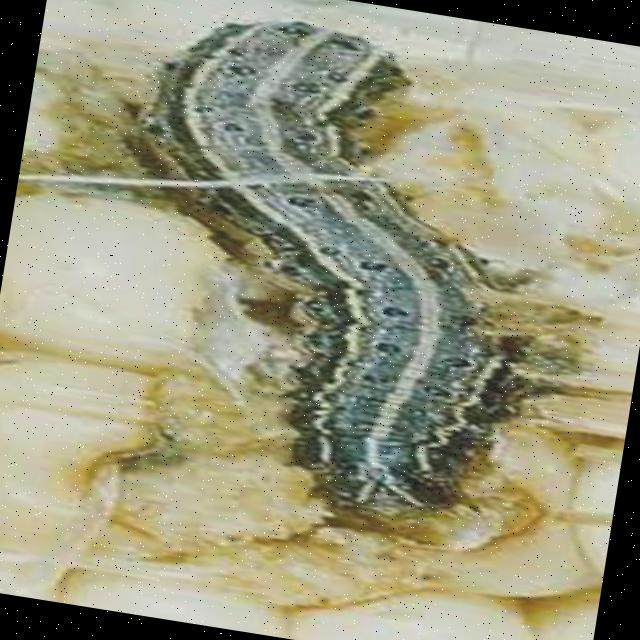worm: (67, 1, 635, 550)
